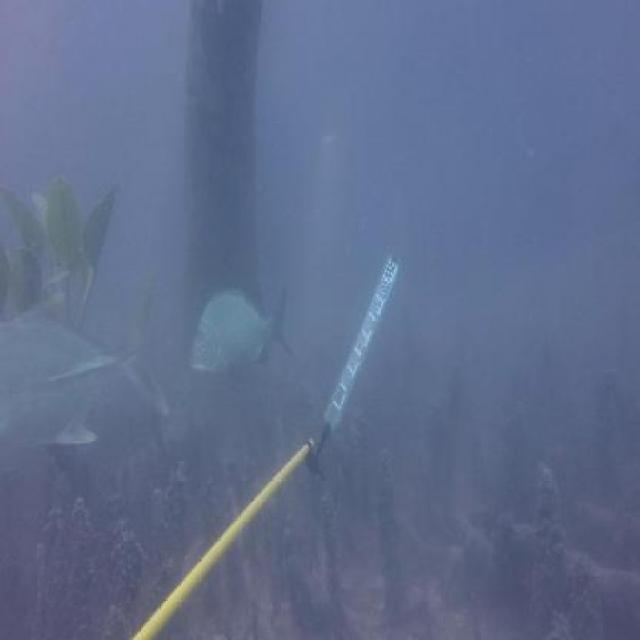Caranx: (0, 280, 174, 454)
acanthopagrus_palmaris: (191, 276, 294, 382)
